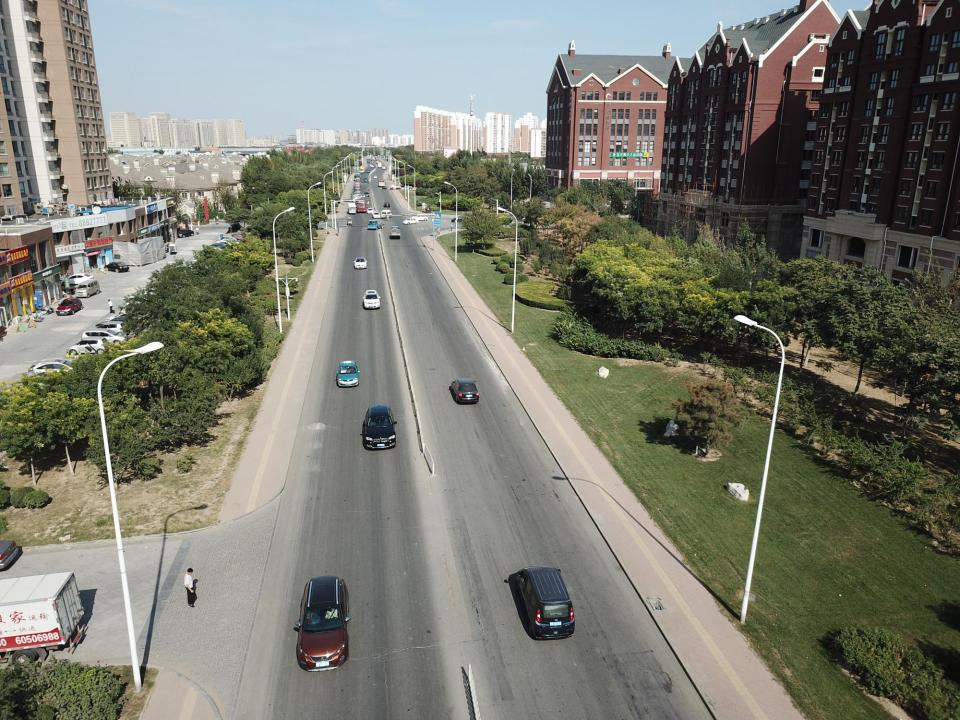car: (292, 574, 358, 673), (359, 404, 401, 450), (446, 373, 484, 404), (209, 231, 248, 254), (81, 328, 128, 346), (66, 338, 109, 356), (336, 357, 360, 388), (55, 297, 84, 315), (362, 286, 382, 312), (74, 279, 100, 297), (94, 321, 129, 334), (60, 272, 96, 284), (105, 314, 144, 323), (104, 261, 131, 273), (177, 226, 195, 239), (355, 254, 367, 270), (412, 212, 430, 221), (451, 215, 471, 223), (402, 217, 419, 225), (351, 197, 373, 202), (381, 209, 393, 218), (390, 184, 402, 189), (366, 207, 374, 214), (383, 201, 391, 207), (404, 184, 412, 190), (373, 212, 380, 218), (363, 176, 369, 182), (364, 192, 370, 198), (362, 193, 367, 200), (373, 174, 378, 179), (382, 186, 388, 190)
truck: (1, 572, 95, 662), (365, 219, 386, 231), (389, 225, 402, 238), (356, 200, 369, 213), (347, 201, 356, 214), (360, 165, 366, 173)
van: (509, 561, 578, 641), (26, 359, 83, 377), (378, 179, 385, 187)
